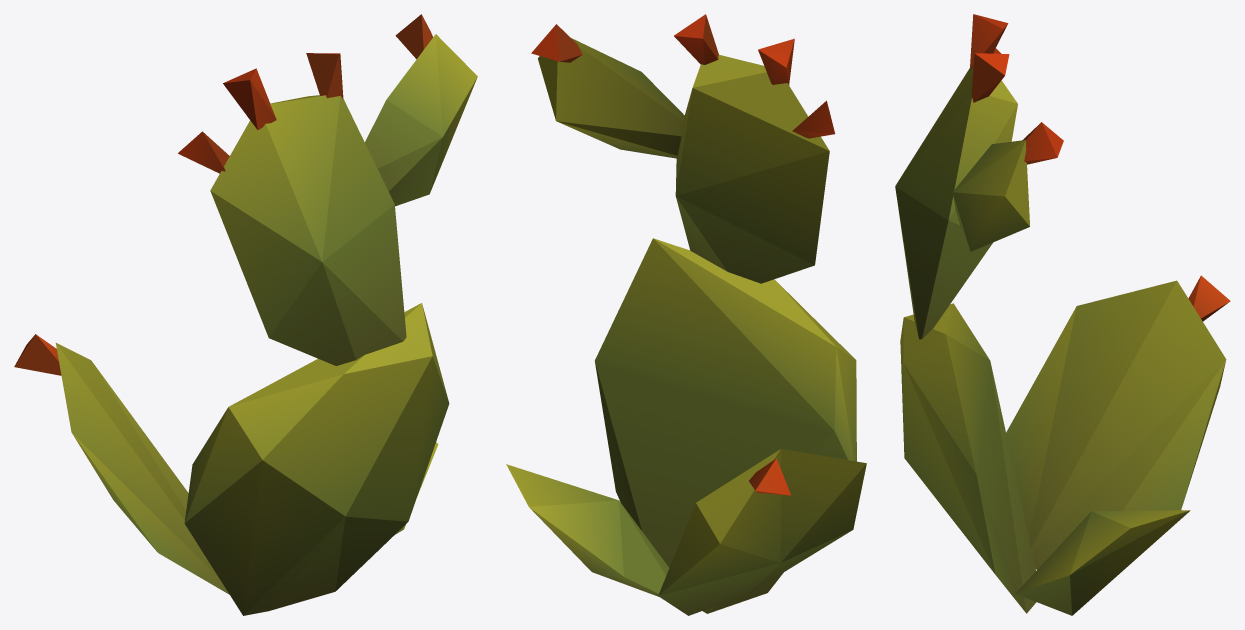
The model's file is Mixed_Cactus_01.fbx.
3 views of the same model, side by side, from view 1: azimuth 30°, elevation 25°; view 2: azimuth 150°, elevation 25°; view 3: azimuth 270°, elevation 25° (orthographic). The views are drawn at different scales.
Visible parts, largest first — view 1: Cactus_01.001; view 2: Cactus_01.001; view 3: Cactus_01.001.
Boxes of the visible parts, x1,y1,x2,y2 form: Cactus_01.001: (14, 14, 477, 615); Cactus_01.001: (506, 14, 866, 615); Cactus_01.001: (895, 14, 1230, 615).
Size of the model in its own units: 147 by 218 by 119.
